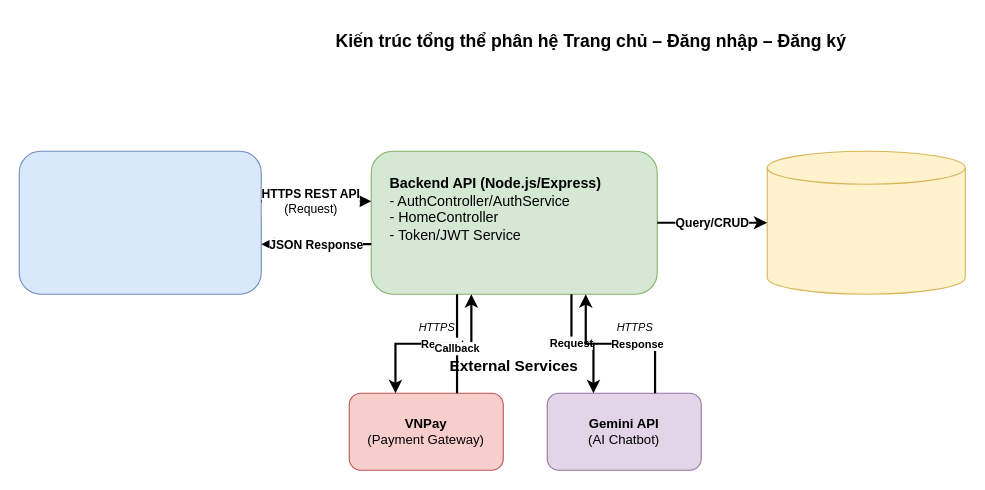
Some shapes in this 985 by 490 pixel diagram are drawn without their labels. The shapes that lost their labels are listed below. From the top down, each one's box as (x1, y1, x2, y2) in pixels, then its label:
(18, 150, 261, 294): Frontend (ReactJS) - HomePage UI - Login/Register UI - LocalStorage (JWT)
(766, 150, 965, 294): MongoDB (Collections) - Users - Movies - Banners - Events
